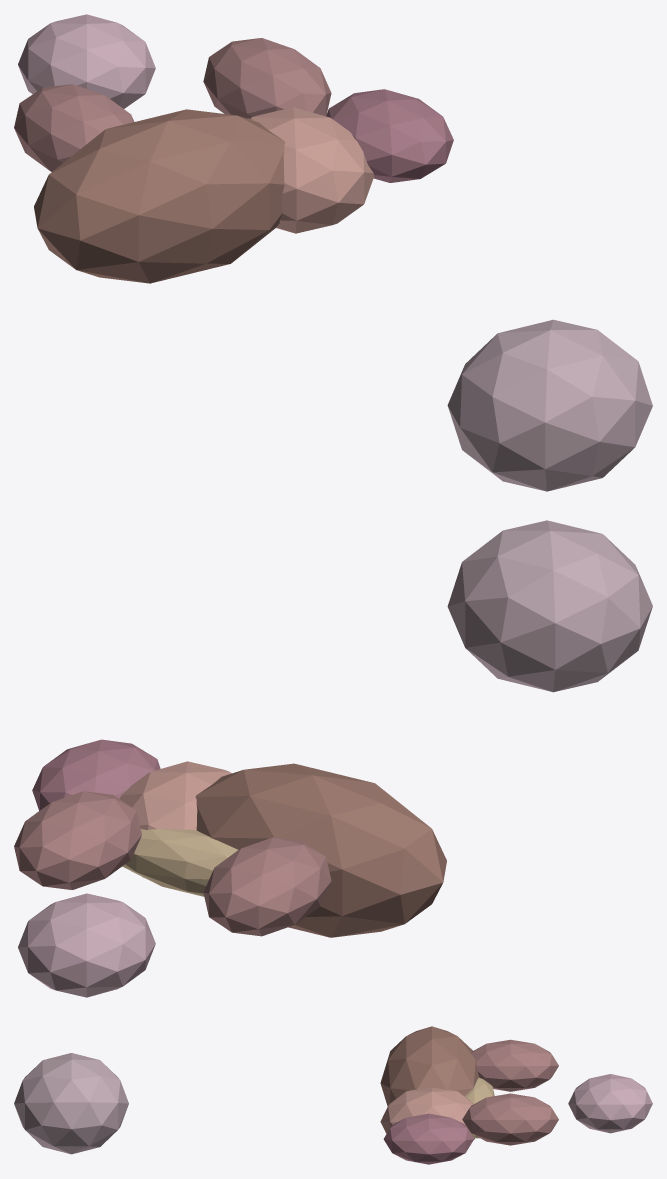
File: organs-g3-low.glb
The picture shows the model from 3 angles, top to bottom: view 1: azimuth 30°, elevation 25°; view 2: azimuth 150°, elevation 25°; view 3: azimuth 270°, elevation 25°; orthographic projection. The views are drawn at different scales.
Visible parts, largest first — view 1: liver, brain, stomach, bladder, spleen, right_kidney, left_kidney; view 2: brain, liver, bladder, right_kidney, left_kidney, spleen, pancreas_proxy, stomach; view 3: brain, liver, right_kidney, bladder, spleen, left_kidney, stomach, pancreas_proxy.
Part boxes in pixels (x1,y1,x2,y2): liver: (34,109,285,283); brain: (447,319,652,491); stomach: (249,107,374,233); bladder: (18,14,155,108); spleen: (326,89,453,182); right_kidney: (203,38,331,118); left_kidney: (14,84,134,171); brain: (447,520,652,692); liver: (195,763,446,937); bladder: (18,893,155,997); right_kidney: (14,791,141,889); left_kidney: (203,837,331,936); spleen: (32,739,160,810); pancreas_proxy: (122,829,237,896); stomach: (119,761,231,877); brain: (14,1053,128,1154); liver: (380,1026,479,1106); right_kidney: (462,1093,558,1145); bladder: (568,1074,652,1133); spleen: (383,1113,473,1164); left_kidney: (471,1039,558,1091); stomach: (380,1087,474,1140); pancreas_proxy: (465,1077,494,1138).
Bounding box in the file's own units: 1.78 × 0.64 × 4.22.
